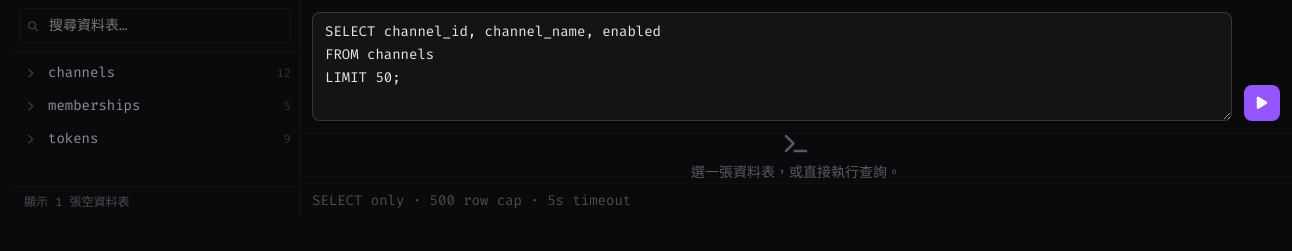
Test: DbConsole › shows the truncation note when the result is capped
The width and height of the screenshot is (1292, 251).
Click the text "channels". click: (82, 72)
box: [48,63,115,82]
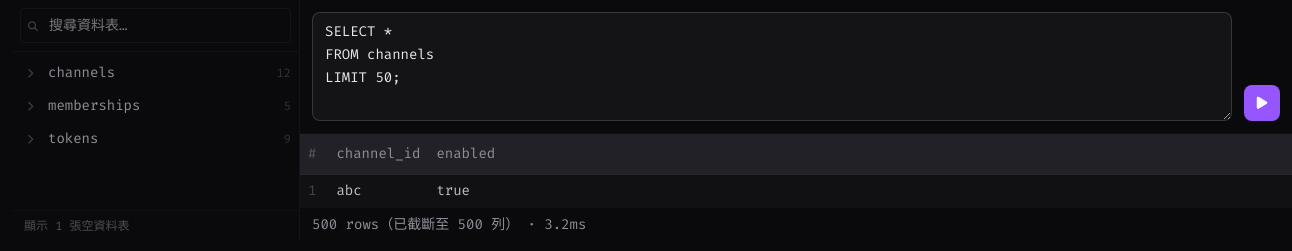
Result: the text "500 rows（已截斷至 500 列） · 3.2ms" is shown at [312,214,586,234]
